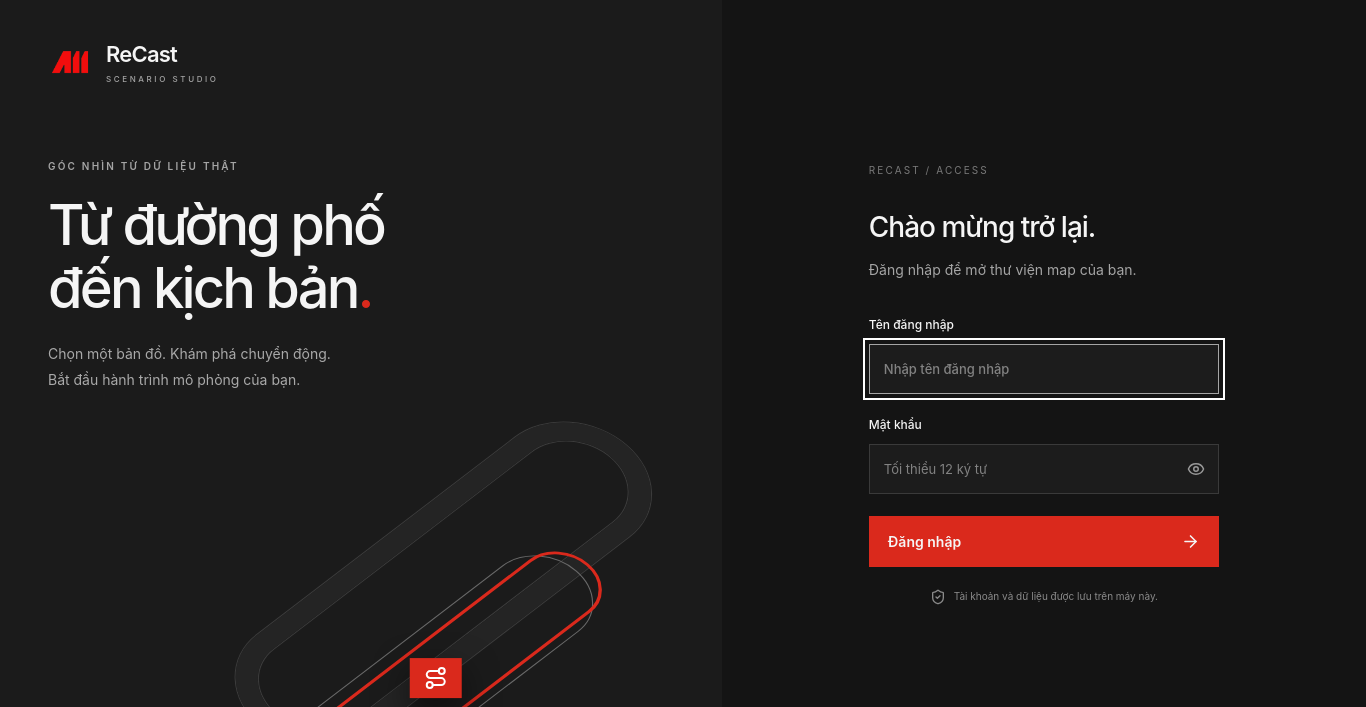
Test: local access flow › requires login before loading any dataset, clears password after success
Expected: the heading "Chào mừng trở lại." is shown, 869,210 -> 1095,244
In the field labelled "Tên đăng nhập": (1044, 369) 869,344 -> 1219,394, type "owner"
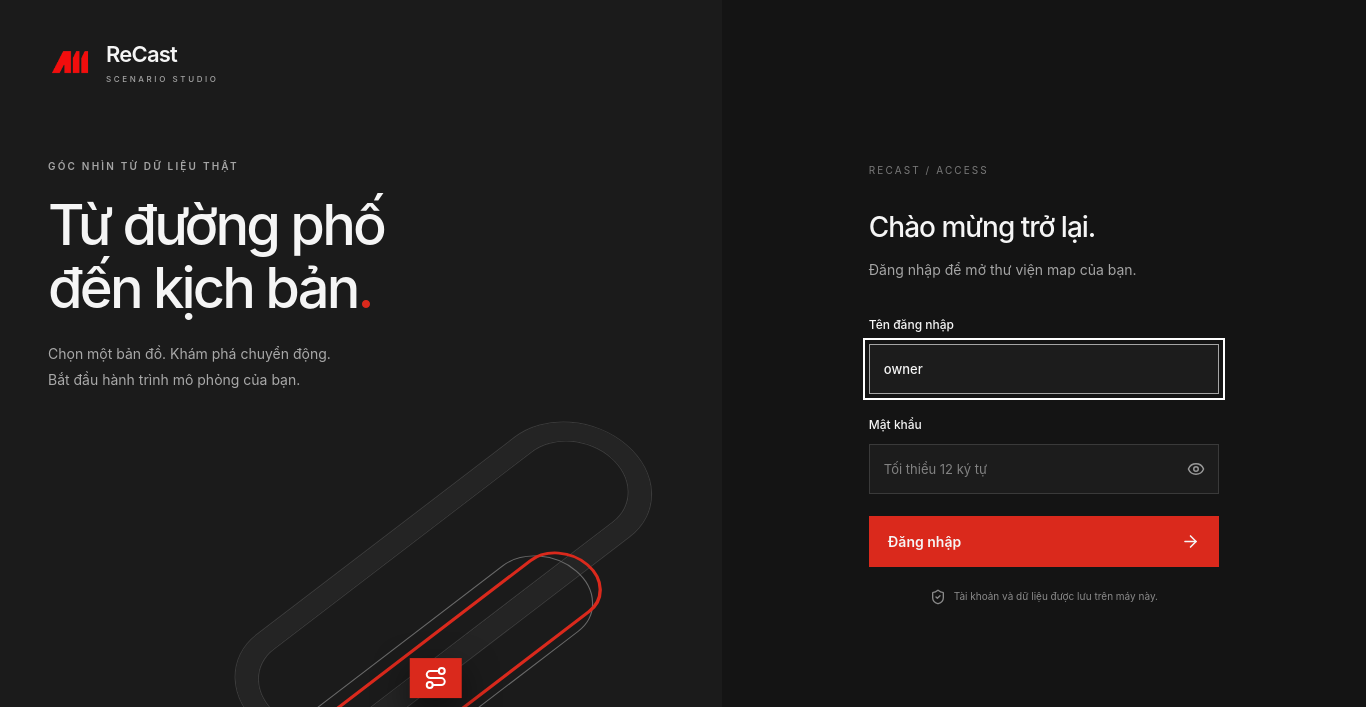
In the password field labelled "Mật khẩu": (1044, 469) 869,444 -> 1219,494, type "local-test-password"
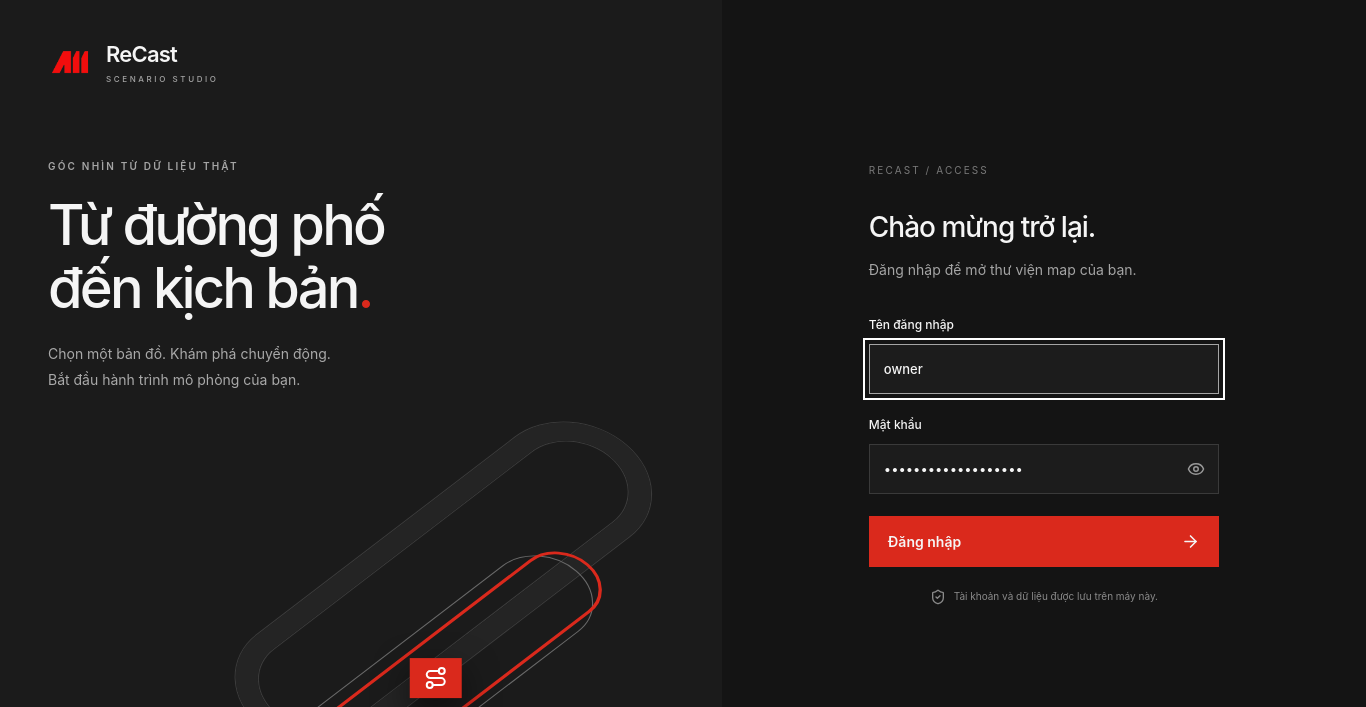
Click the button "Đăng nhập": (924, 541) 869,516 -> 1219,567
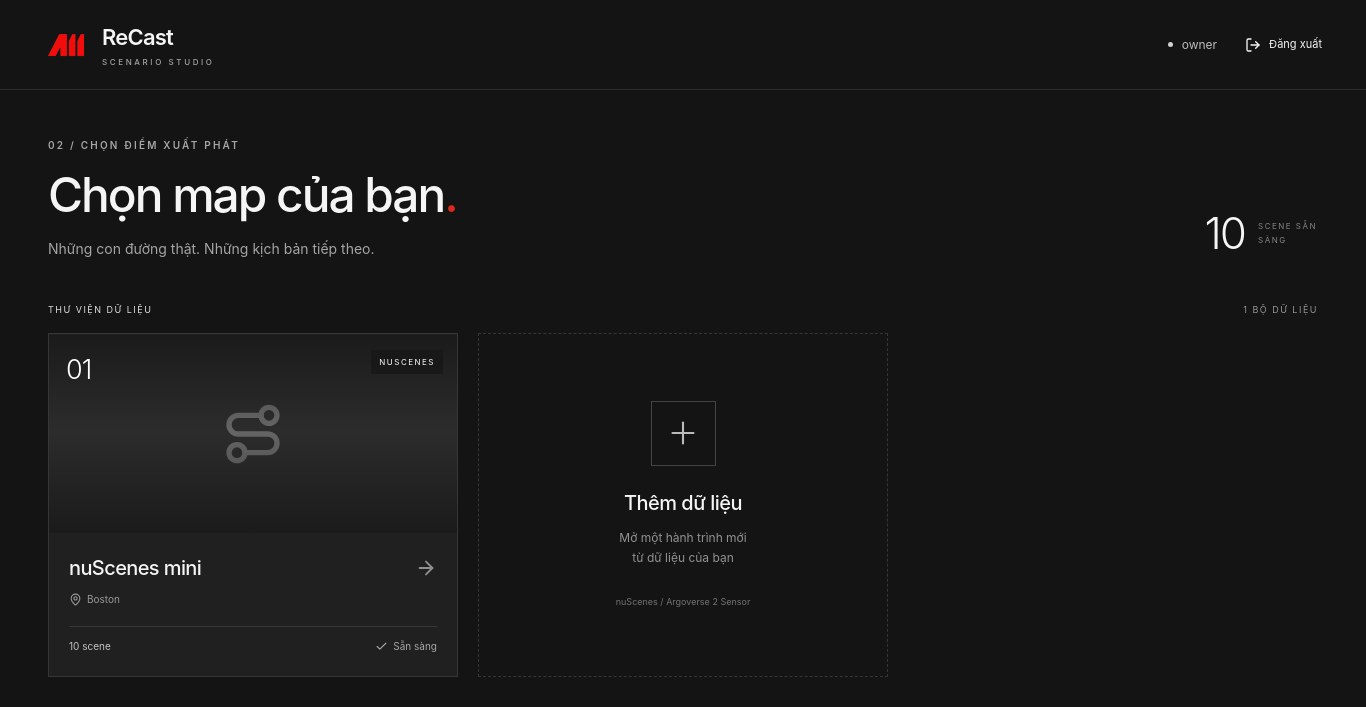
Expected: the button with aria-label "Mở nuScenes mini" is shown, 48,333 -> 458,677
Expected: the label labelled "Mật khẩu" is gone
